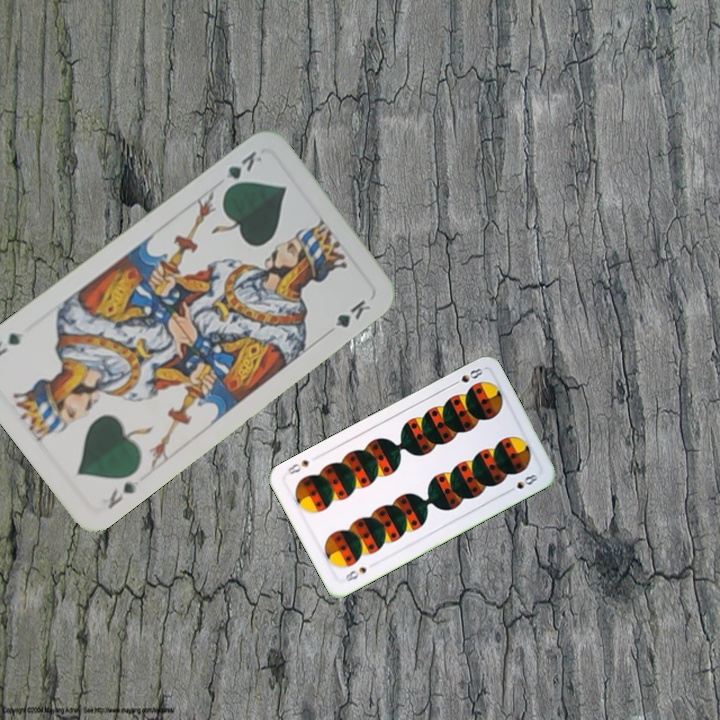GK: (219, 146, 265, 195), (103, 476, 142, 512)
S8: (447, 364, 486, 389), (340, 563, 369, 585)
